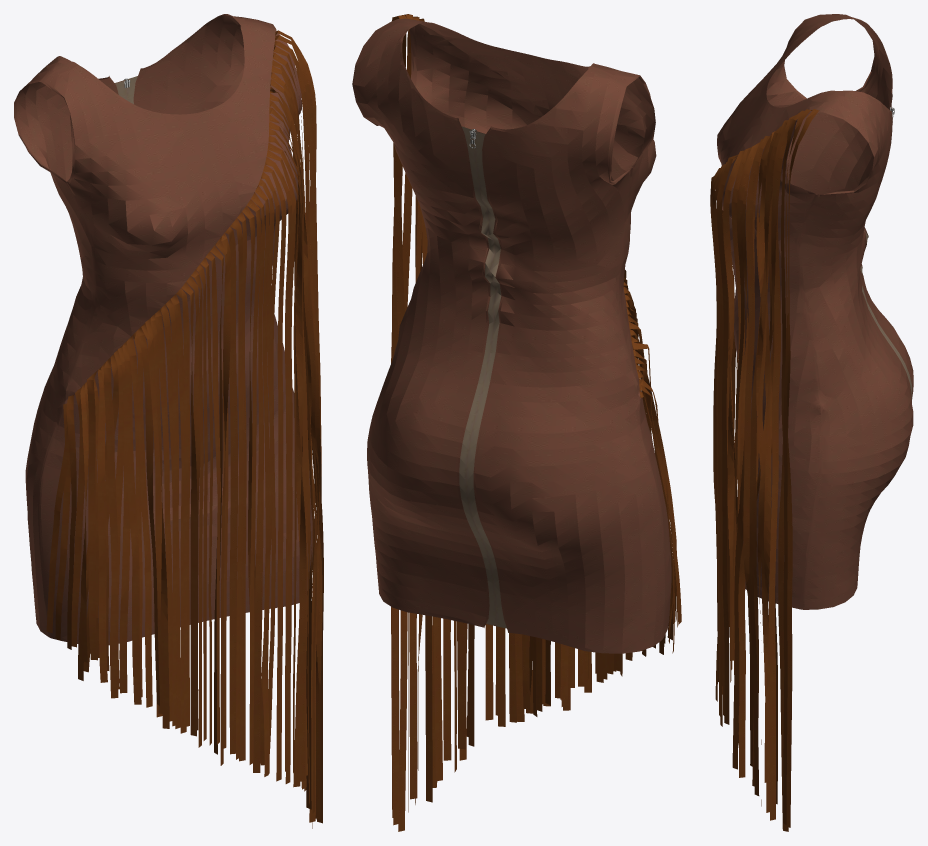
Rendered from elvs-fringe-leather-dress.glb.
3 renders of one model, left to right at view 1: azimuth 30°, elevation 25°; view 2: azimuth 150°, elevation 25°; view 3: azimuth 270°, elevation 25°, orthographic. The views are drawn at different scales.
Visible parts, largest first — view 1: fringe leather dress; view 2: fringe leather dress; view 3: fringe leather dress.
Part boxes in pixels (<box>): fringe leather dress: <box>14,14,323,828</box>; fringe leather dress: <box>352,14,681,831</box>; fringe leather dress: <box>710,14,913,831</box>.
Size of the model in its own units: 38.68 by 108 by 27.71.
Materials: 1 (1 with a texture image).
